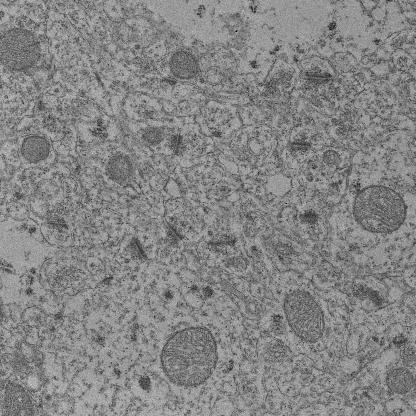mitochondria: (158, 324, 220, 392), (348, 180, 409, 237), (279, 288, 328, 344), (0, 25, 44, 75), (166, 47, 202, 84), (103, 149, 134, 189), (18, 132, 53, 166), (382, 366, 416, 396)
